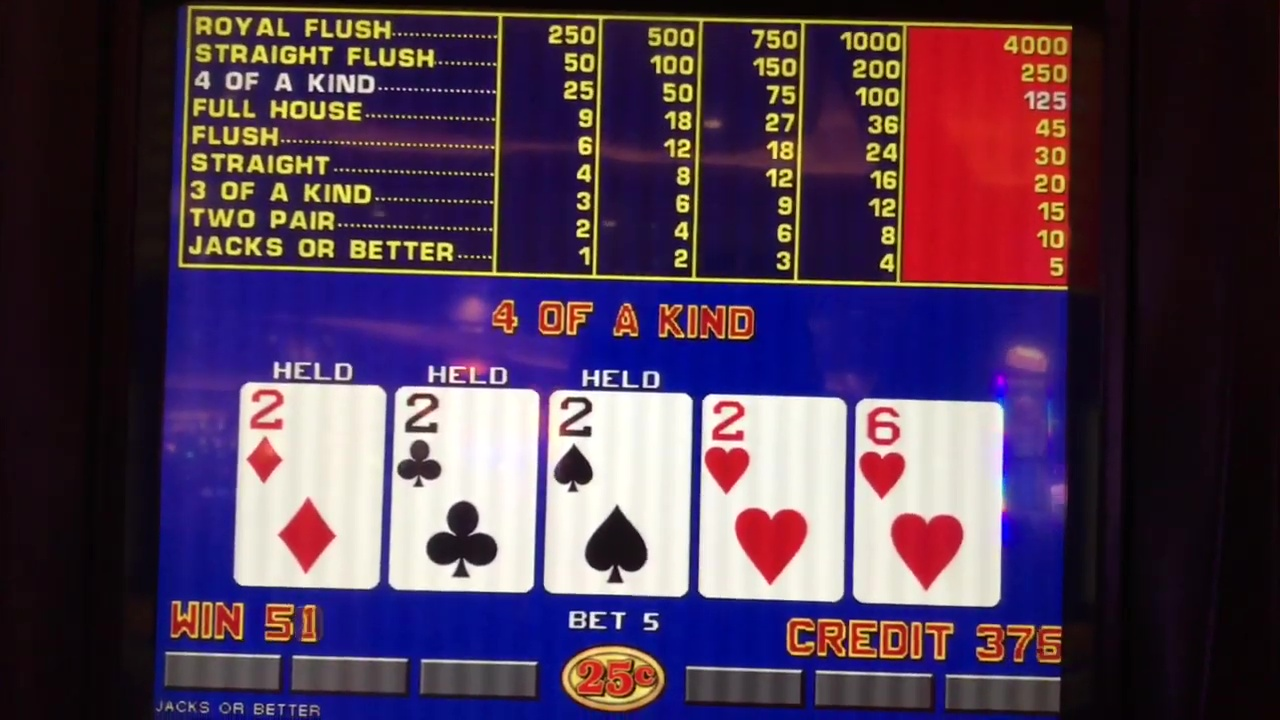C2: (397, 390, 528, 499)
D2: (247, 386, 374, 495)
H2: (705, 398, 838, 507)
H6: (859, 401, 993, 512)
S2: (552, 392, 685, 502)
